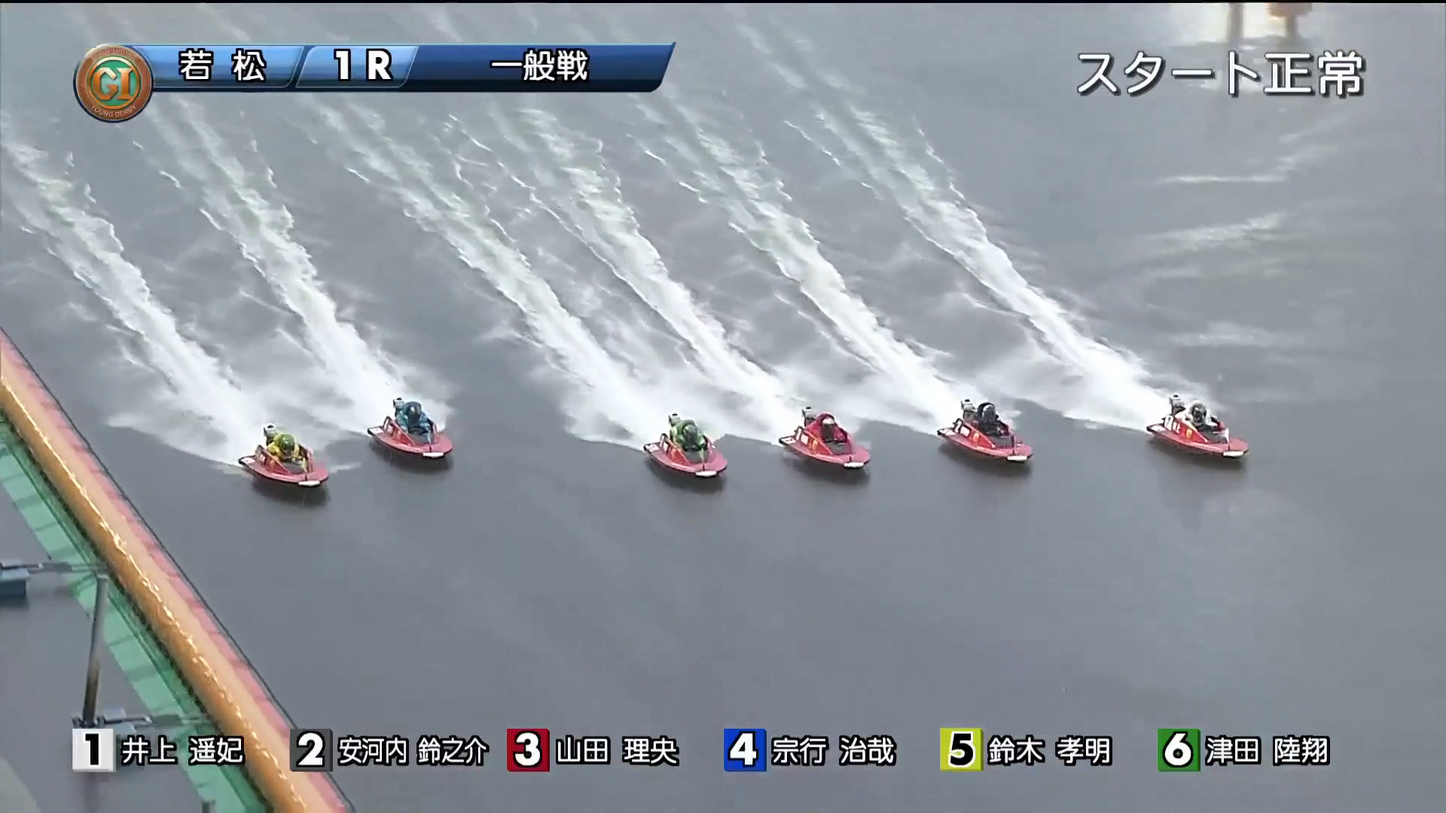１号艇: (1160, 393, 1252, 436)
２号艇: (949, 402, 1044, 443)
３号艇: (785, 425, 883, 467)
４号艇: (632, 420, 739, 467)
５号艇: (348, 392, 469, 447)
６号艇: (250, 435, 350, 492)
